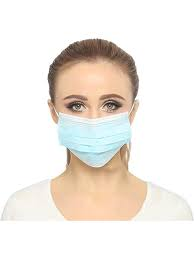mask: (52, 62, 138, 174)
